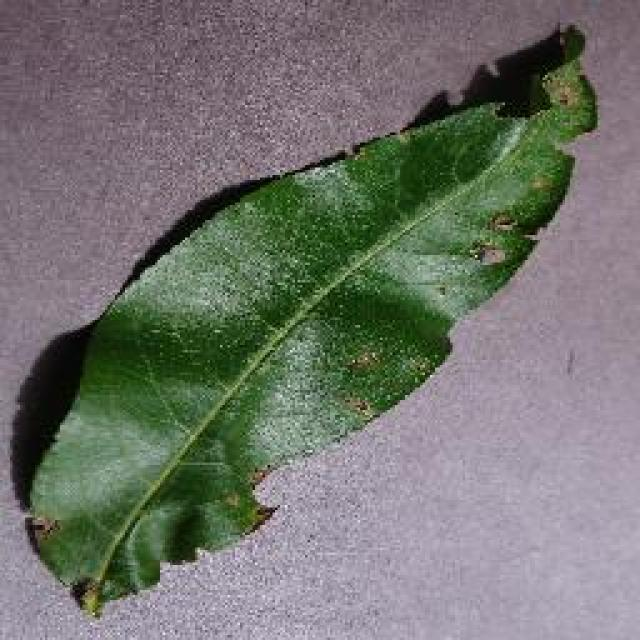Pea_Bacterial_spot: (318, 335, 414, 434), (208, 436, 290, 540), (452, 199, 546, 286), (502, 58, 592, 138)
